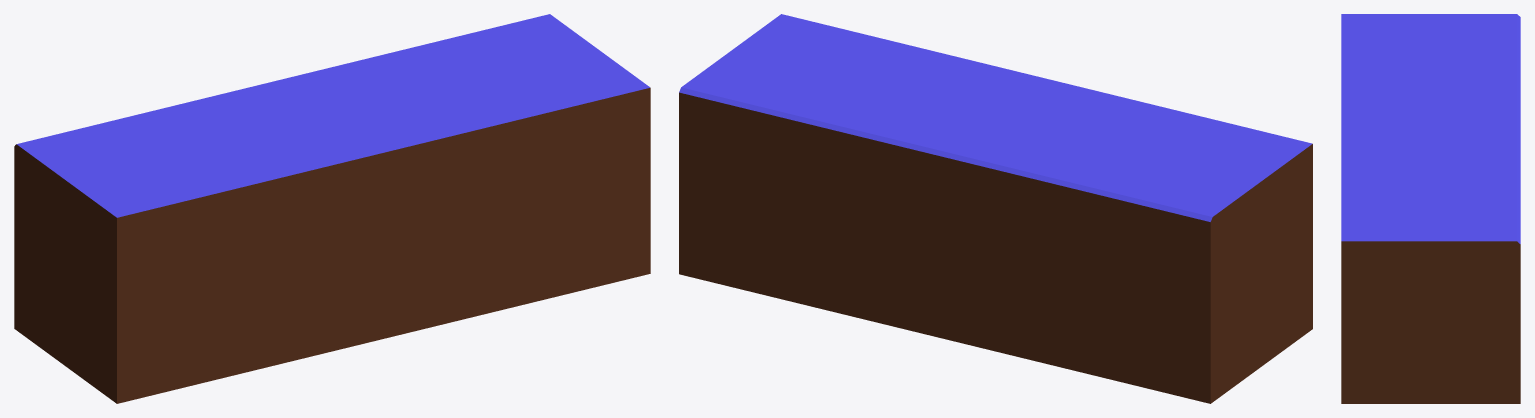
File: DefaultFloor.fbx
The picture shows the model from 3 angles, left to right: view 1: azimuth 30°, elevation 25°; view 2: azimuth 150°, elevation 25°; view 3: azimuth 270°, elevation 25°; orthographic projection. The views are drawn at different scales.
Visible parts, largest first — view 1: Ground; view 2: Ground; view 3: Ground.
Part boxes in pixels (x1,y1,x2,y2): Ground: (14, 14, 650, 403); Ground: (679, 14, 1312, 403); Ground: (1341, 14, 1520, 403).
Bounding box in the file's own units: 6 × 2 × 2.
